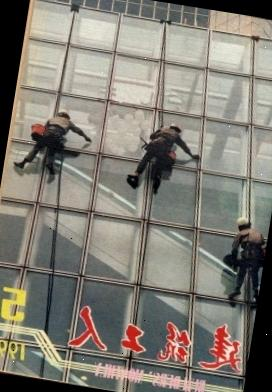helmet: (54, 106, 72, 120), (235, 216, 250, 227), (168, 121, 182, 131)
